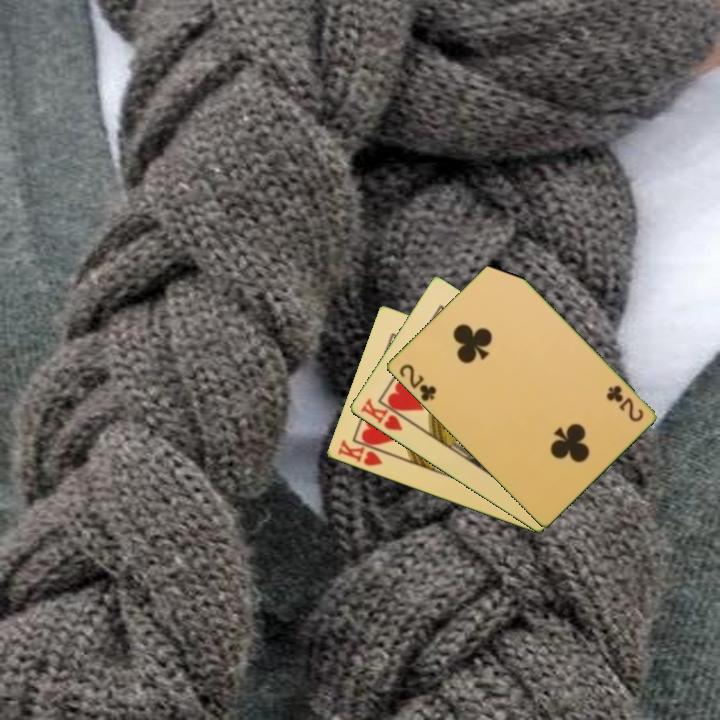2c: (395, 360, 439, 404), (602, 381, 646, 425)
Kh: (356, 395, 413, 434), (334, 436, 391, 469)
